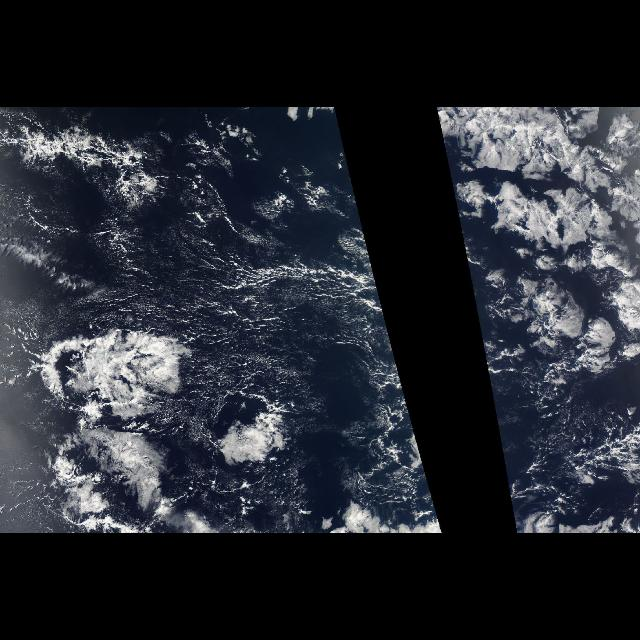Fish: (7, 320, 307, 432), (6, 117, 166, 215)
Flower: (436, 108, 634, 380)
Sugar: (23, 180, 380, 338)
